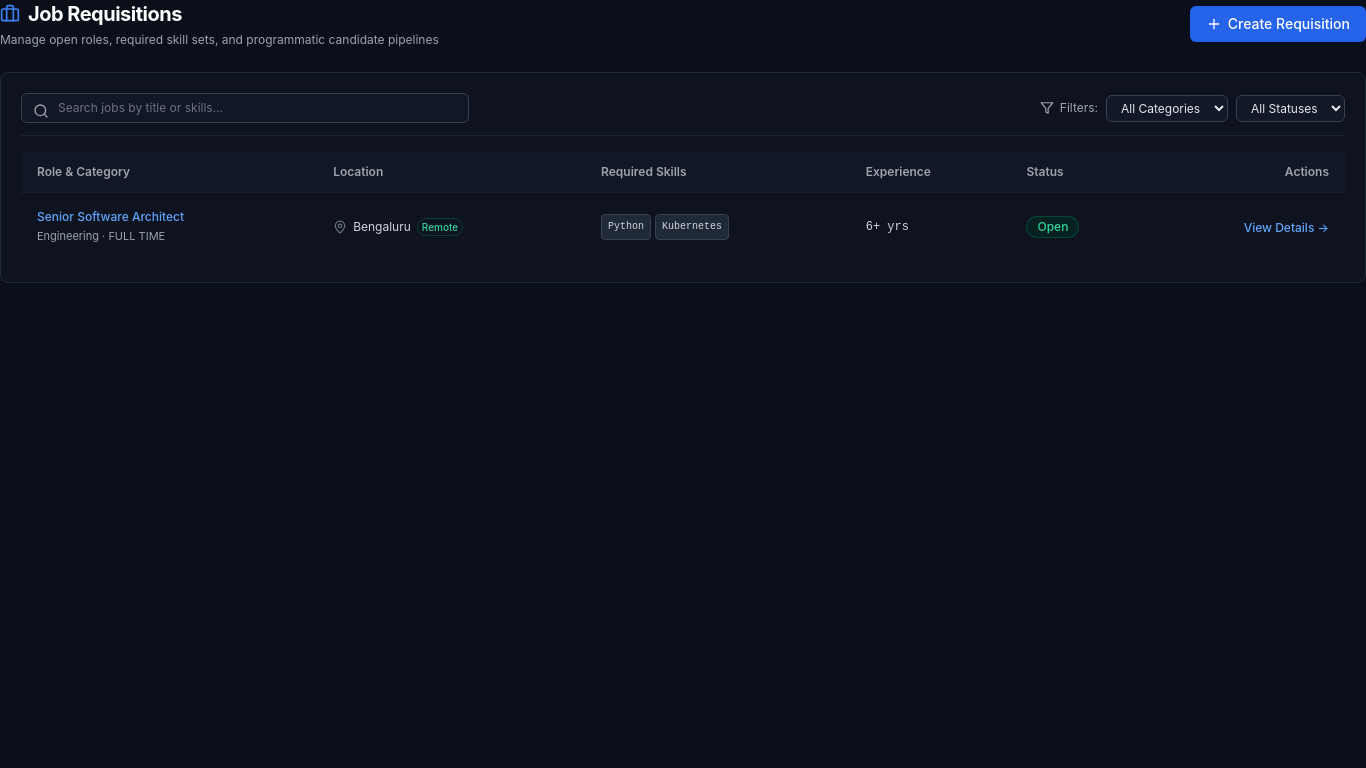
Test: Jobs Page › opens Create Requisition modal when clicking create button
Click the button "Create Requisition": (1278, 24) [1190, 6, 1365, 42]
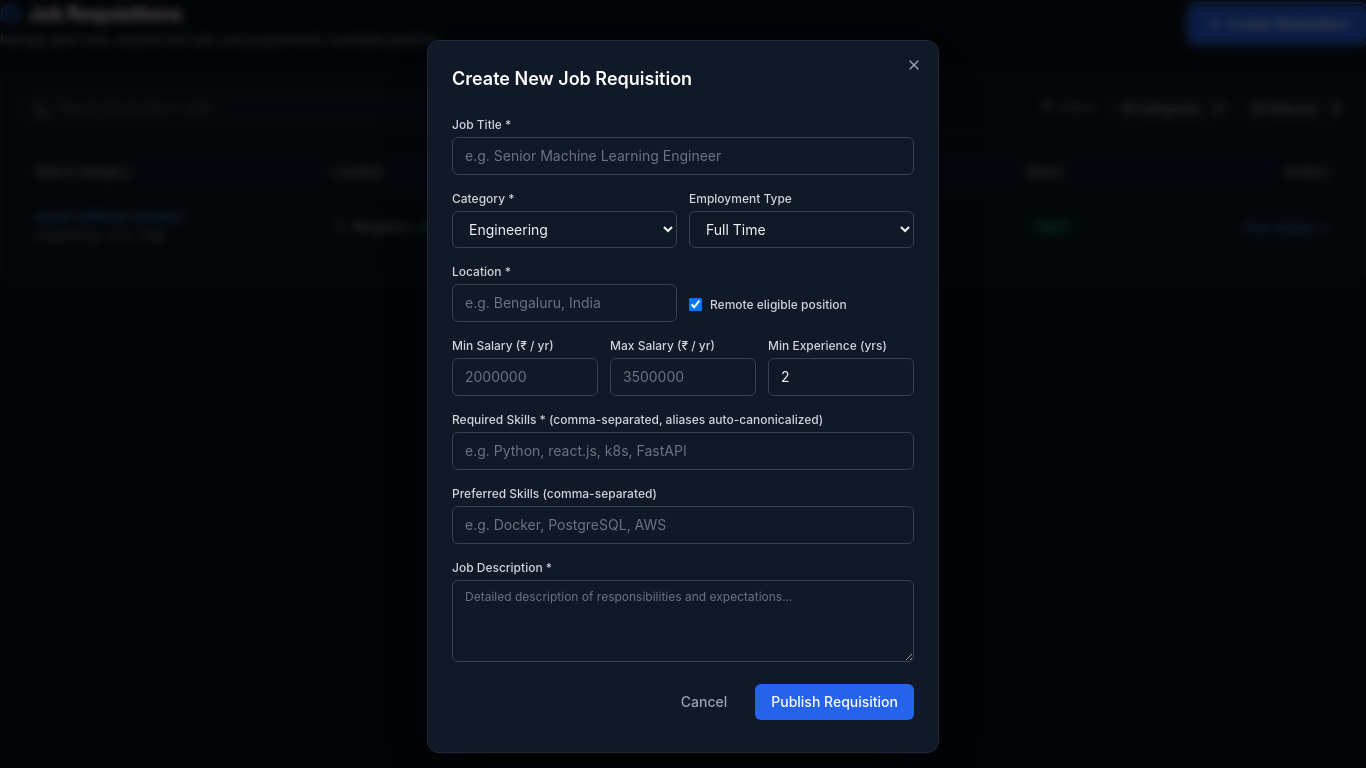
Now the heading "Create New Job Requisition" is shown, box [452, 68, 692, 88]
Now the field labelled "Job Title *" is shown, box [452, 136, 914, 174]
Now the button "Publish Requisition" is shown, box [755, 684, 914, 720]
